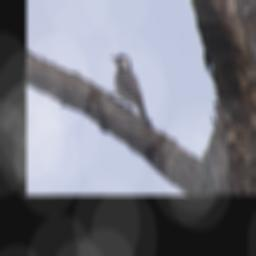Woodpecker: (105, 51, 155, 130)
